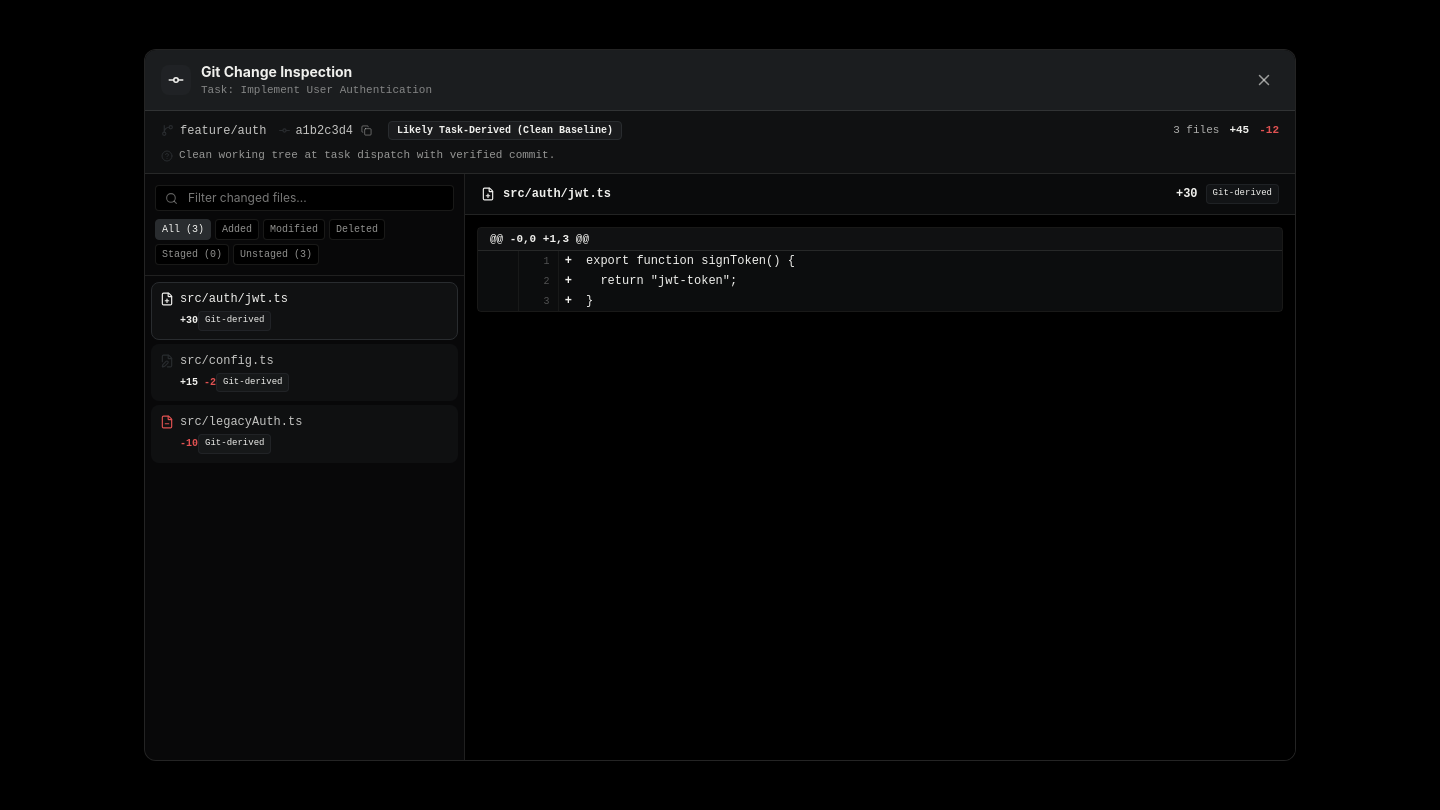
Scenario: GitDiffViewer UI Component › filters files using the search input
The image size is (1440, 810).
Expected: the 2nd text titled "src/auth/jwt.ts" is shown, top-left (180, 291), bottom-right (288, 307)
Expected: the text titled "src/config.ts" is shown, top-left (180, 353), bottom-right (274, 369)
In the field with placeholder "Filter changed files...": (304, 198) top-left (155, 185), bottom-right (454, 211), type "jwt"
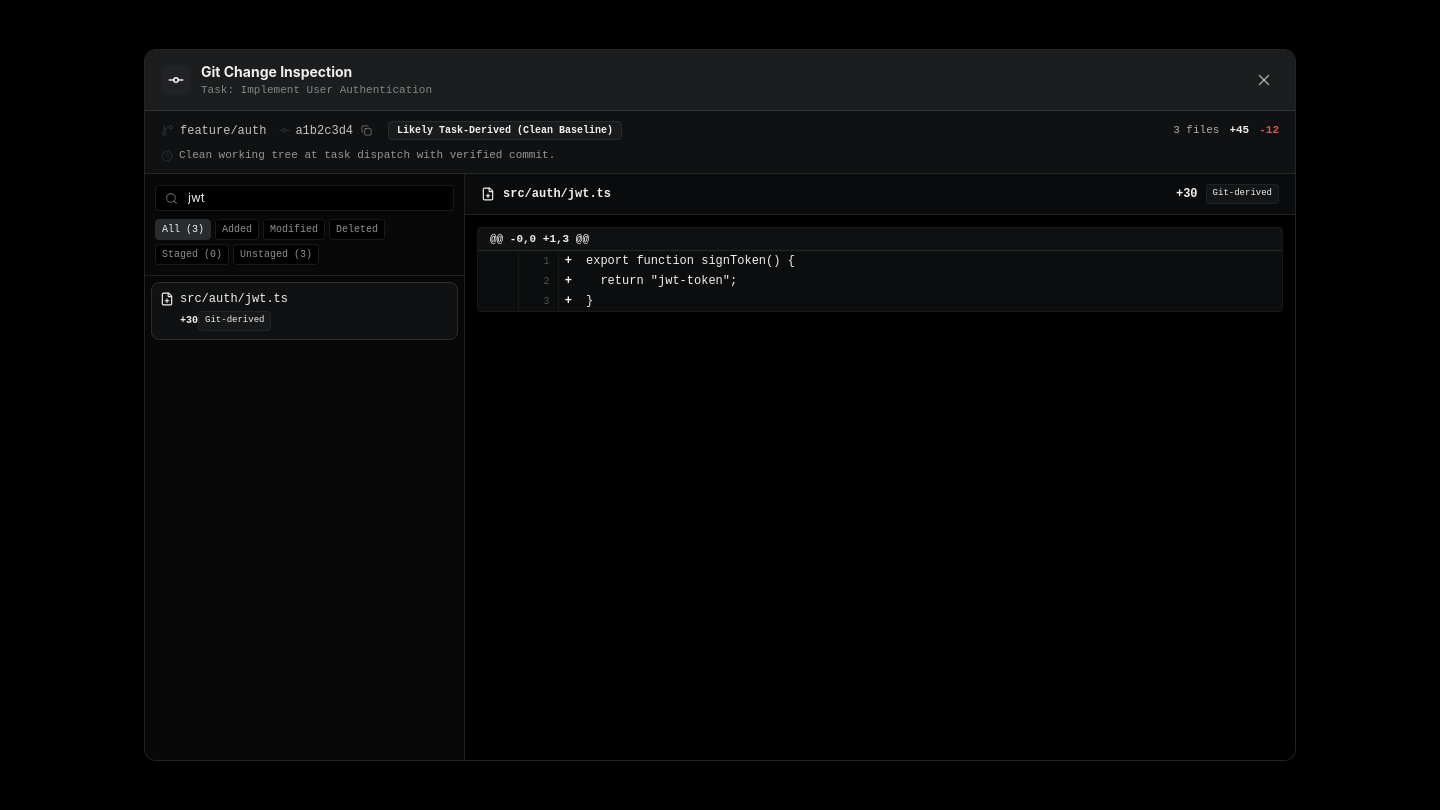
Expected: the 2nd text titled "src/auth/jwt.ts" is shown, top-left (180, 291), bottom-right (288, 307)
Result: the button titled "src/config.ts" is gone
Result: the button titled "src/legacyAuth.ts" is gone
